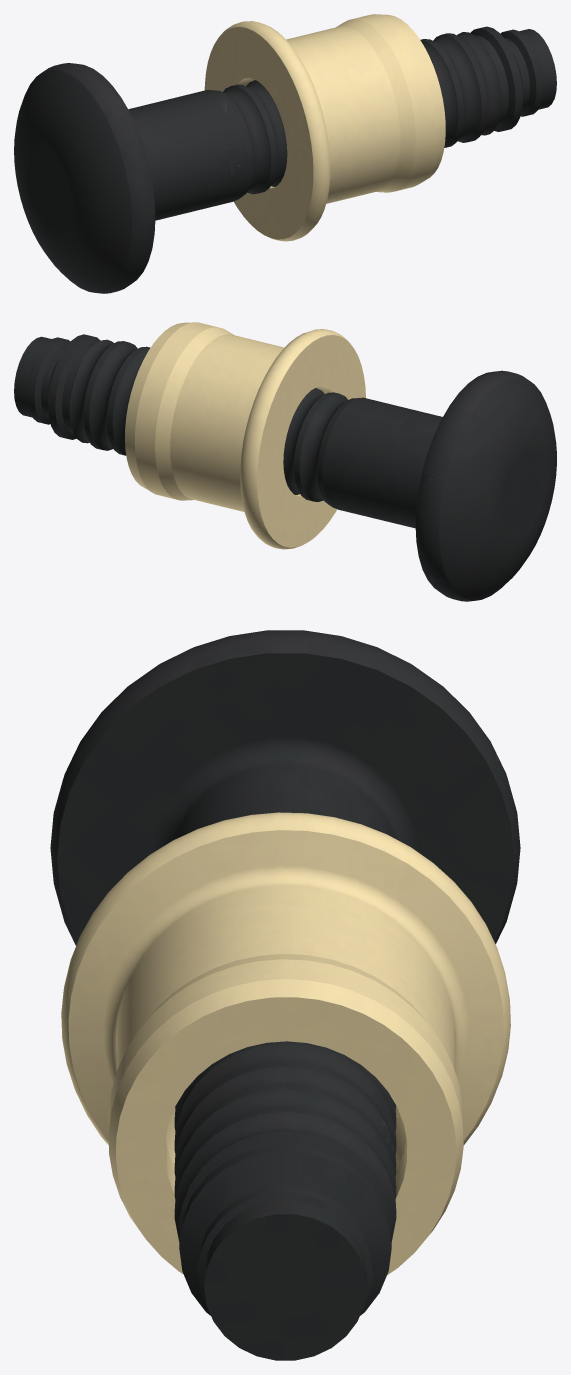
Rendered from small_bobtail_model-transformed.glb.
3 renders of one model, top to bottom at view 1: azimuth 30°, elevation 25°; view 2: azimuth 150°, elevation 25°; view 3: azimuth 270°, elevation 25°, orthographic. The views are drawn at different scales.
Parts seen in each view (by area): view 1: BT-R8-6_BT-( )8-6.001, BTC_BTC2-( )8.001; view 2: BT-R8-6_BT-( )8-6.001, BTC_BTC2-( )8.001; view 3: BT-R8-6_BT-( )8-6.001, BTC_BTC2-( )8.001.
Part boxes in pixels (x1=…): BT-R8-6_BT-( )8-6.001: x1=14, y1=26, x2=556, y2=293; BTC_BTC2-( )8.001: x1=204, y1=14, x2=445, y2=241; BT-R8-6_BT-( )8-6.001: x1=14, y1=334, x2=556, y2=601; BTC_BTC2-( )8.001: x1=125, y1=322, x2=365, y2=549; BT-R8-6_BT-( )8-6.001: x1=50, y1=630, x2=520, y2=1360; BTC_BTC2-( )8.001: x1=61, y1=812, x2=510, y2=1275.
Bounding box in the file's own units: 0.0318 × 0.0132 × 0.0133.
Materials: 2 (2 with a texture image).
